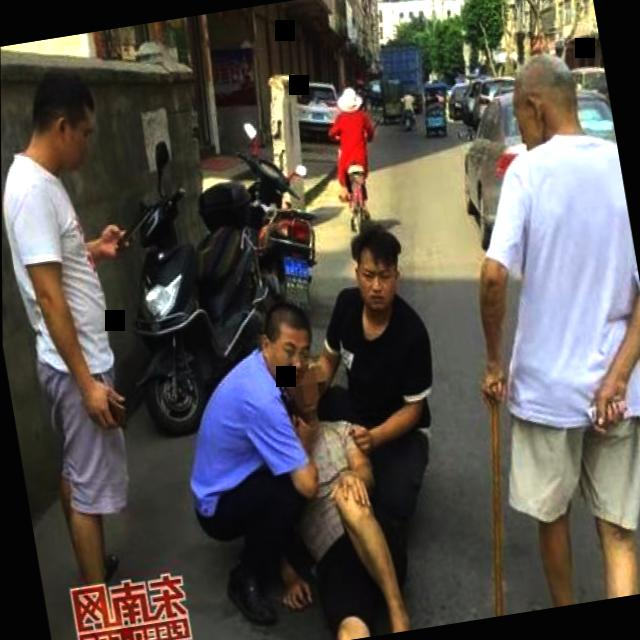Fall-Detected: (251, 329, 431, 640)
